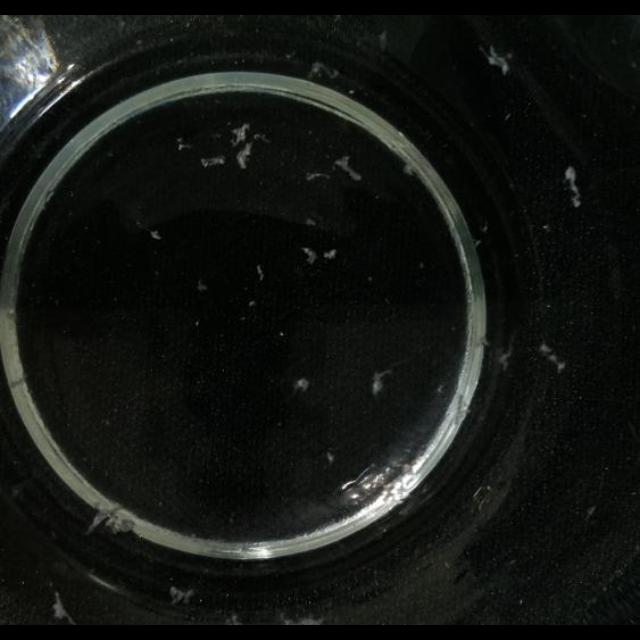Fibre: (482, 44, 512, 74), (50, 590, 76, 622), (538, 342, 564, 373), (564, 164, 582, 206), (333, 156, 362, 180), (168, 584, 196, 606), (370, 368, 392, 396), (309, 60, 339, 80), (230, 123, 252, 147), (236, 142, 254, 168), (498, 346, 514, 370), (292, 377, 310, 395), (200, 156, 226, 168), (301, 246, 317, 264), (222, 613, 244, 625), (402, 162, 418, 178), (306, 172, 330, 182), (176, 138, 194, 150), (377, 30, 387, 50), (196, 280, 208, 292), (148, 230, 162, 240), (256, 265, 264, 281), (326, 452, 334, 464)
Fragment: (344, 461, 426, 513), (82, 498, 142, 540)
microbeads: (324, 248, 336, 260), (540, 343, 552, 355)
